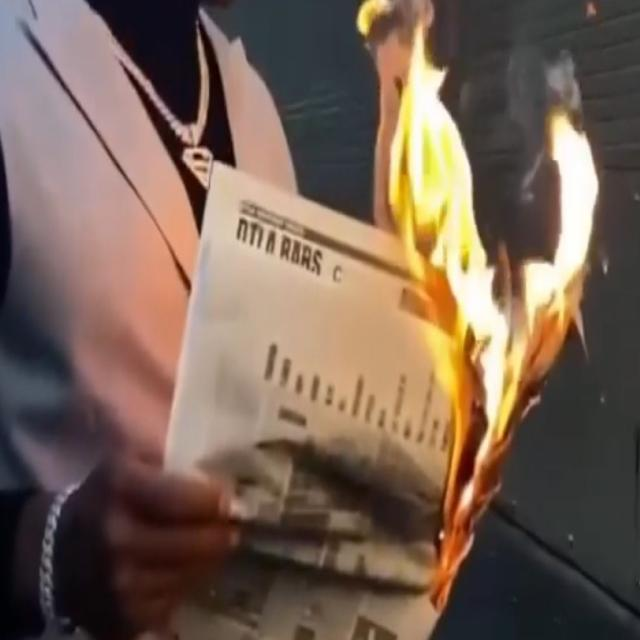fire: (388, 19, 598, 609), (357, 0, 392, 36)
